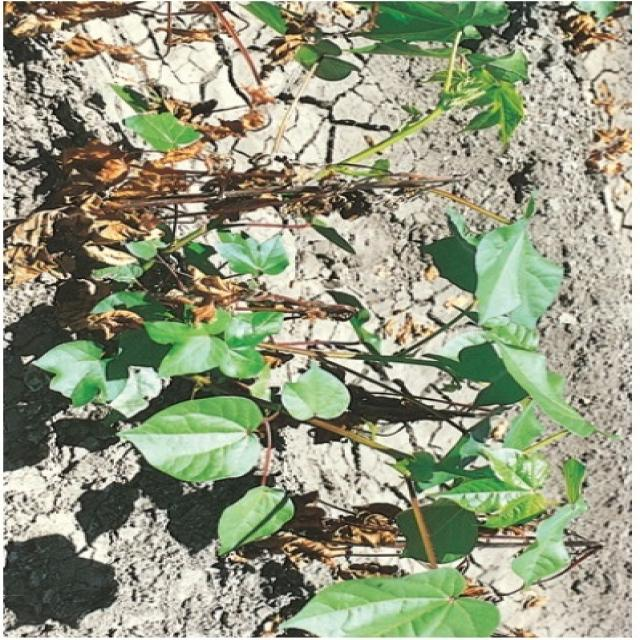Fusarium Wilt: (30, 2, 588, 640)
